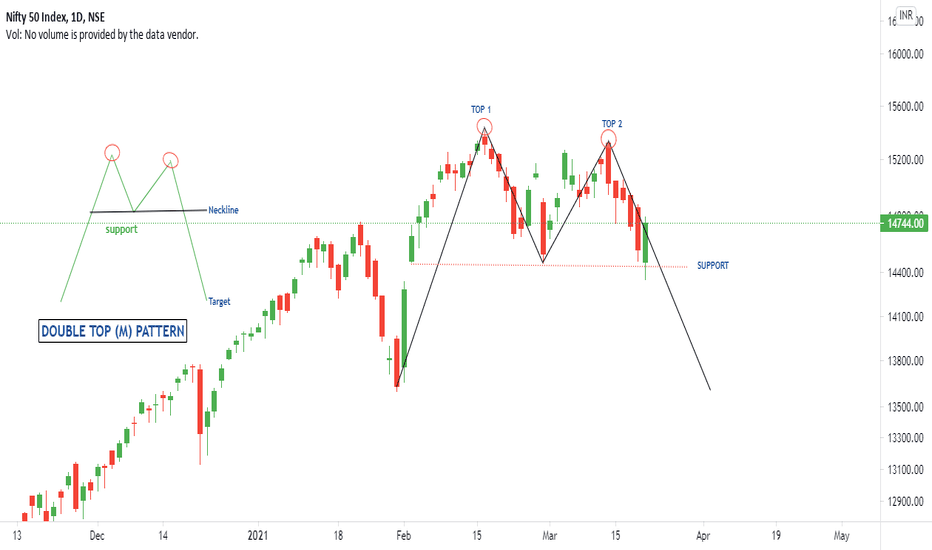M-Pattern: (455, 127, 665, 270)
